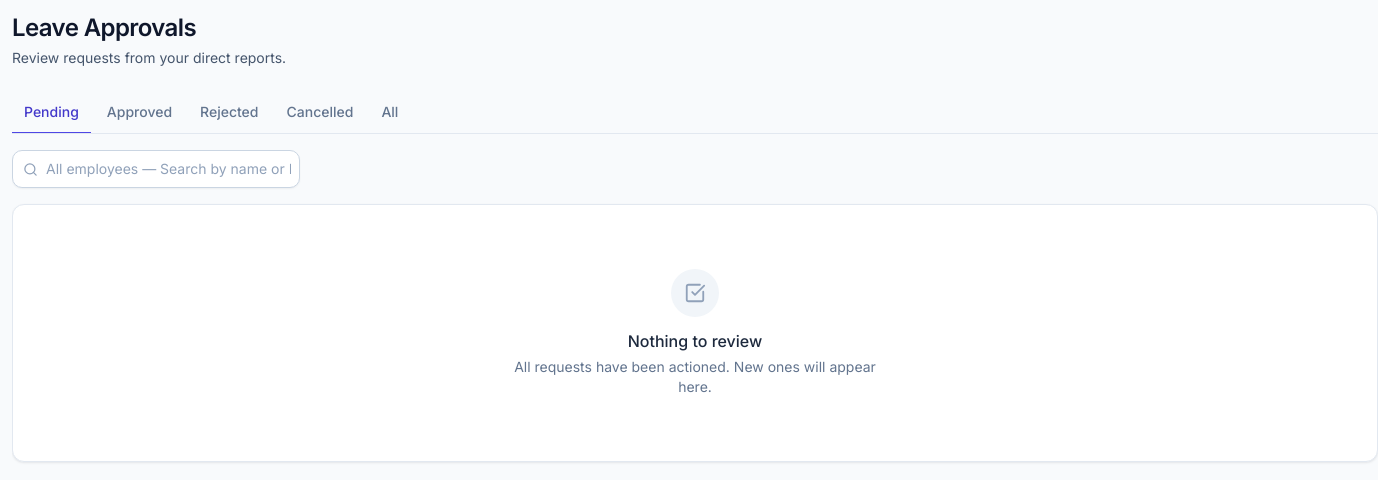
Test case: LeaveApprovalsPage › switching the status tab refetches with the new filter
This screenshot has width=1378, height=480.
Expected: the text "Nothing to review" is shown, [628, 331, 762, 351]
Click the tab "Approved".
click(139, 113)  # box [95, 92, 184, 134]
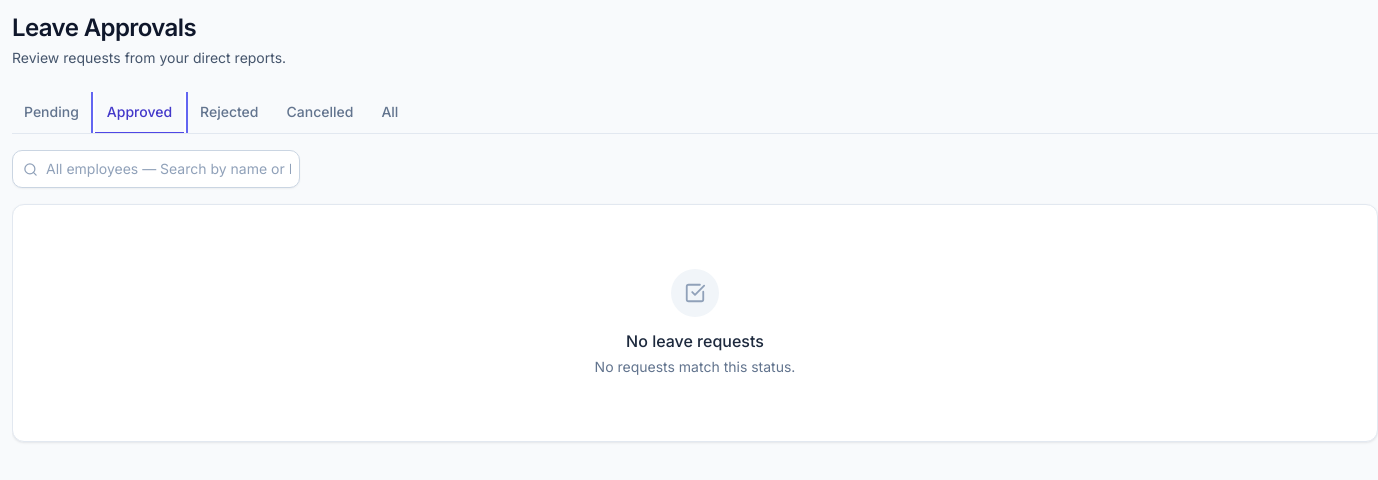
Expected: the text "No leave requests" is shown, [626, 331, 764, 351]
